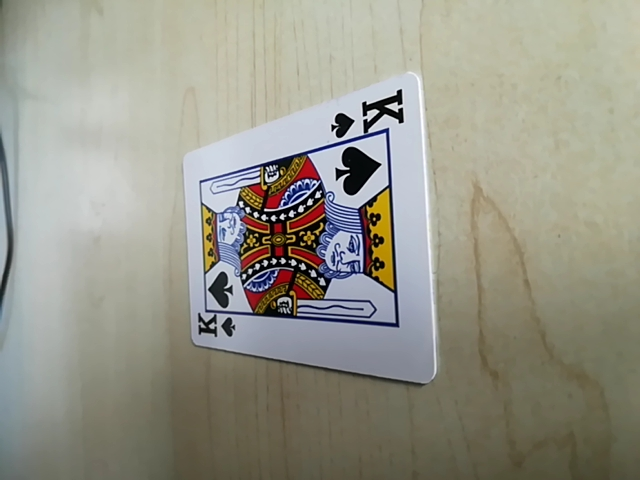ht k: (327, 89, 407, 140), (189, 308, 238, 344)
